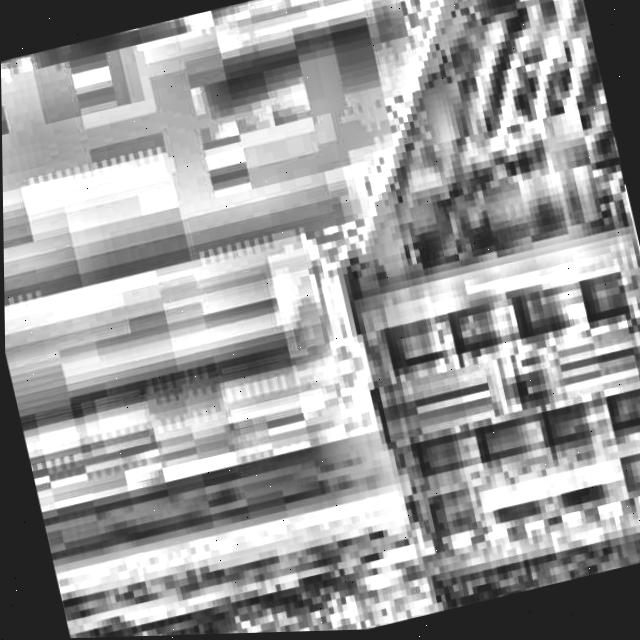dump_truck: (285, 0, 640, 619)
